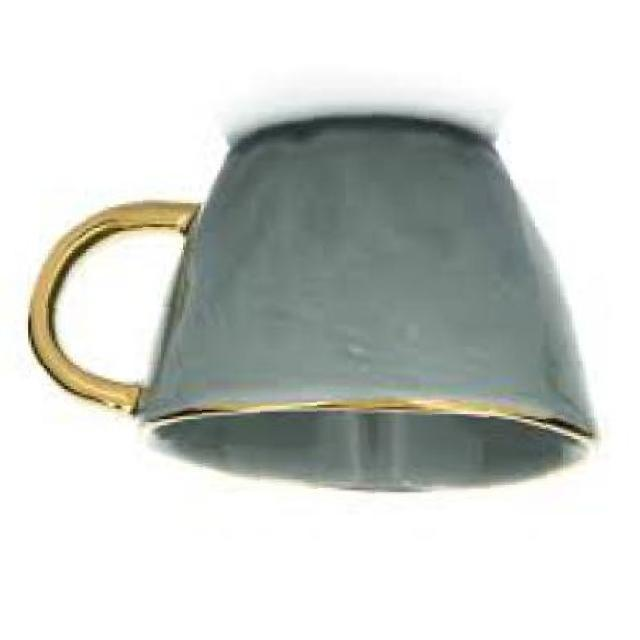cup: (15, 107, 616, 504)
